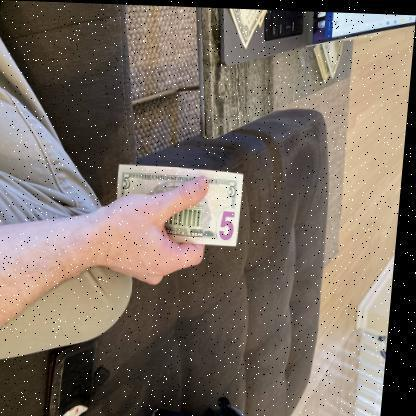dollar_back: (115, 162, 246, 246)
